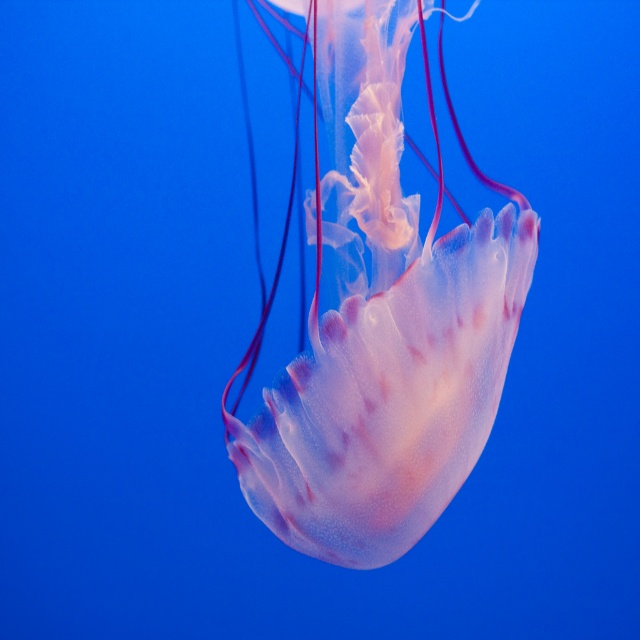Jellyfish: (219, 0, 542, 570)
